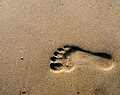human_footprint: (50, 45, 114, 72)
